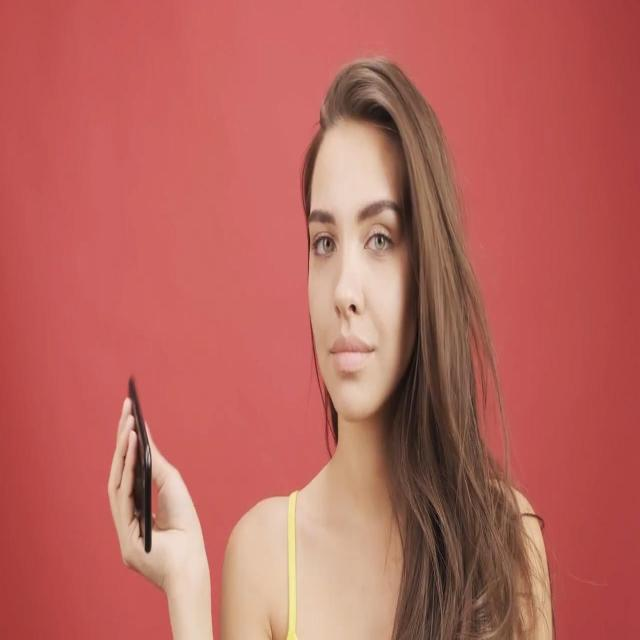no-helmet: (308, 142, 415, 420)
